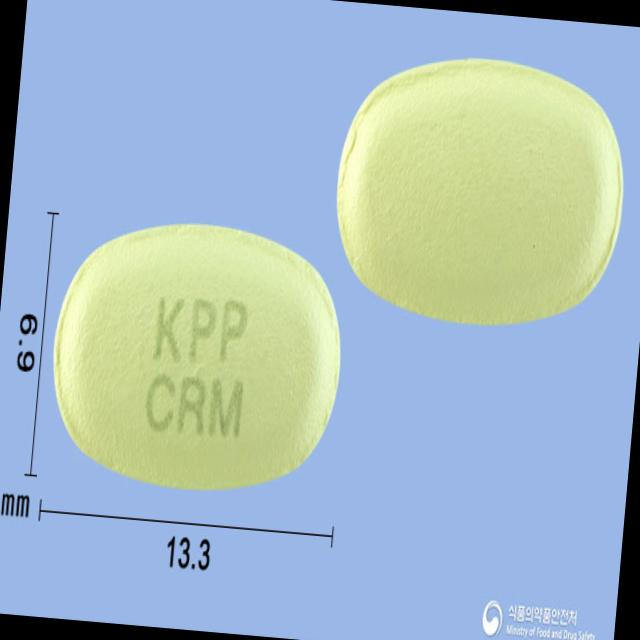Crema: (40, 212, 352, 500)
